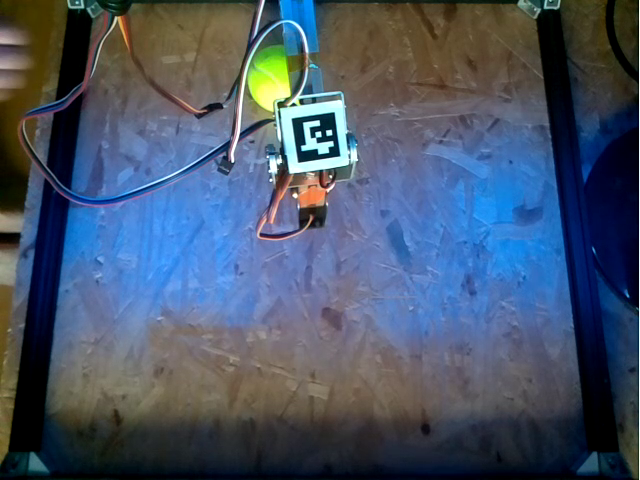tennis_ball: (246, 46, 294, 110)
